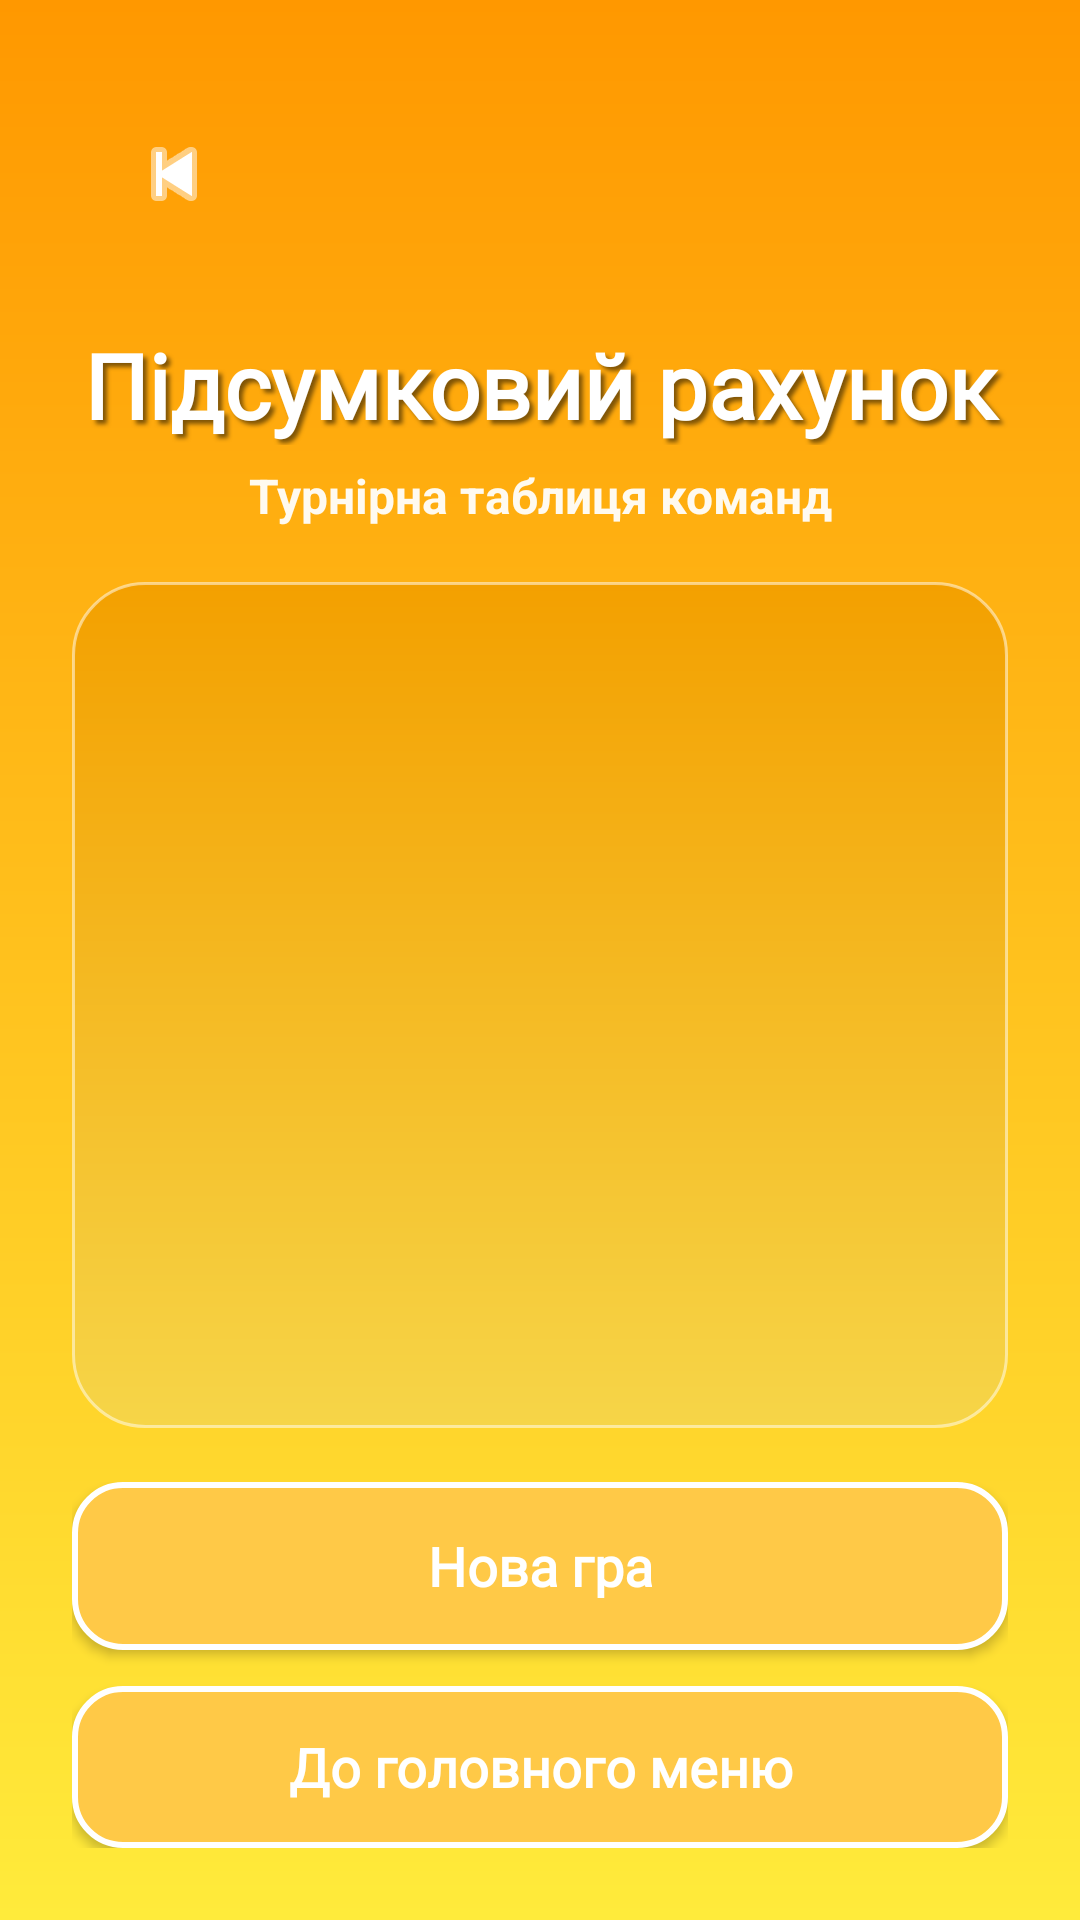

Icons on this 1080 × 1920 Android screen, each with the point to tap as [x,y]:
Назад: [174,174]
